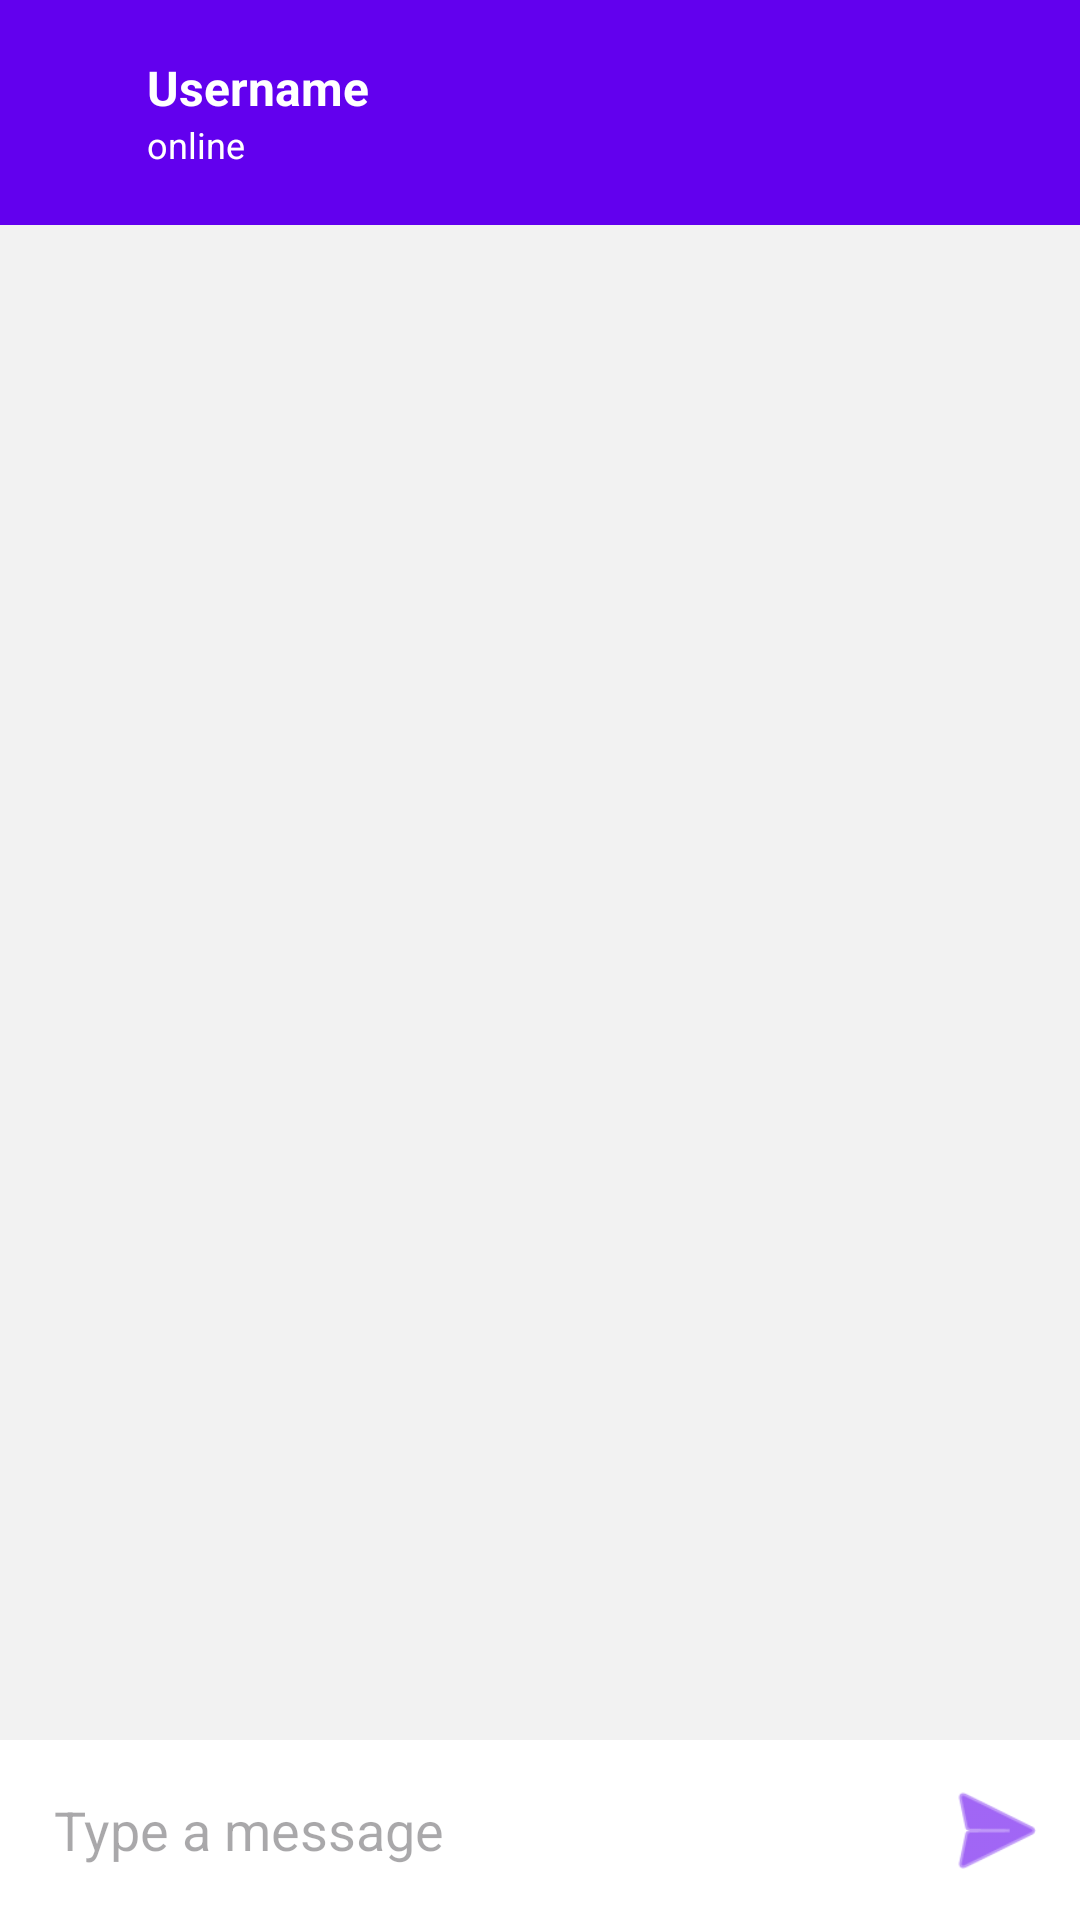

Where to tap for icons on this 1080*1920 app screen, as (x=x, y=y):
send: (x=997, y=1831)
